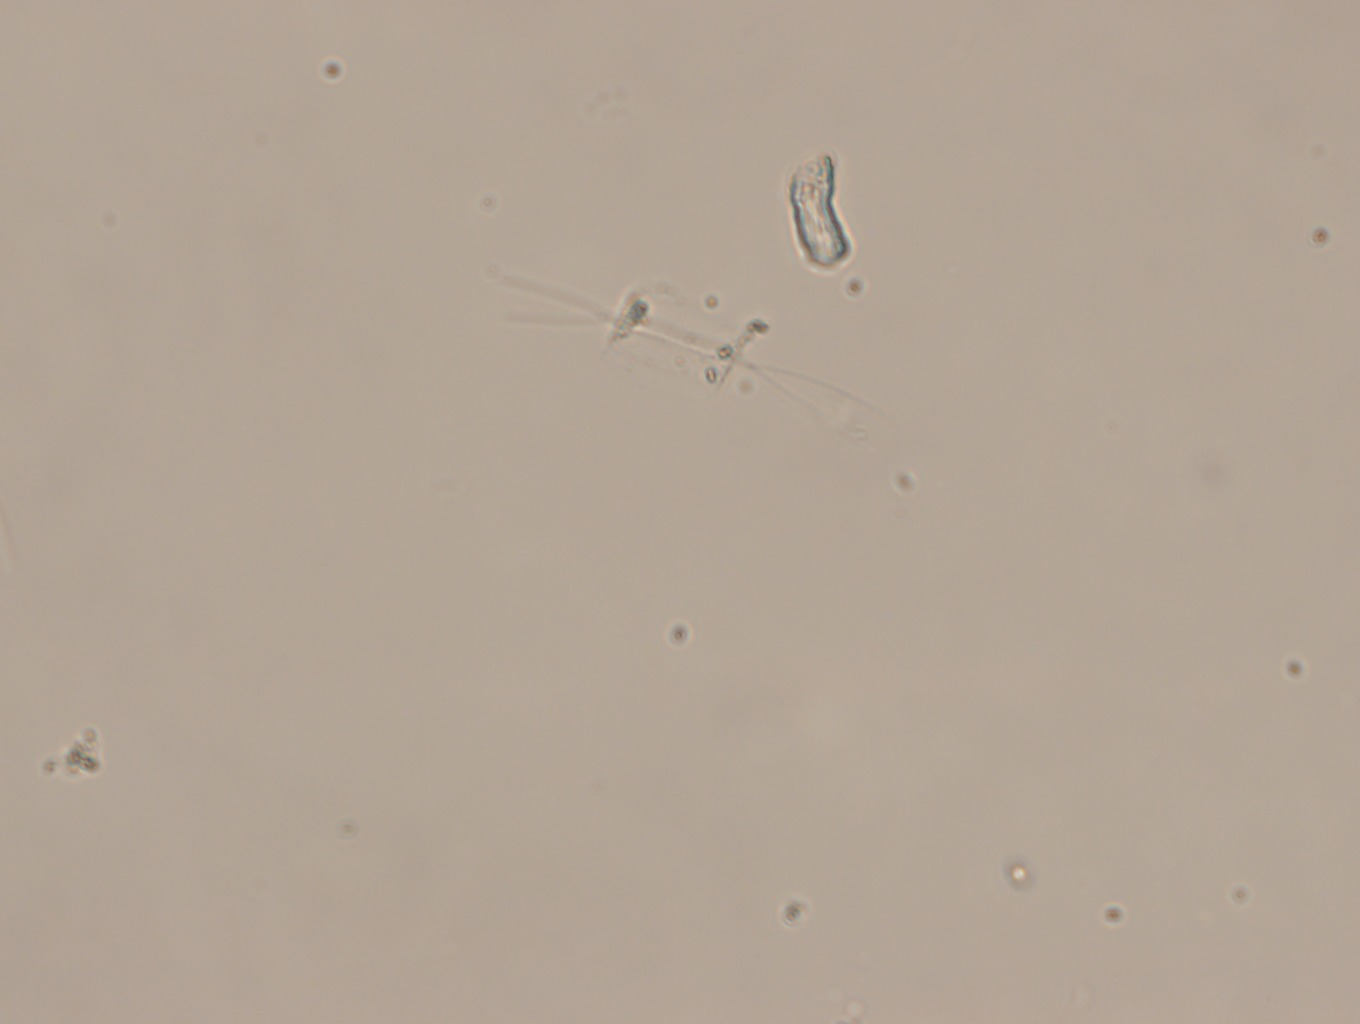chaetoceros: (486, 269, 848, 423)
